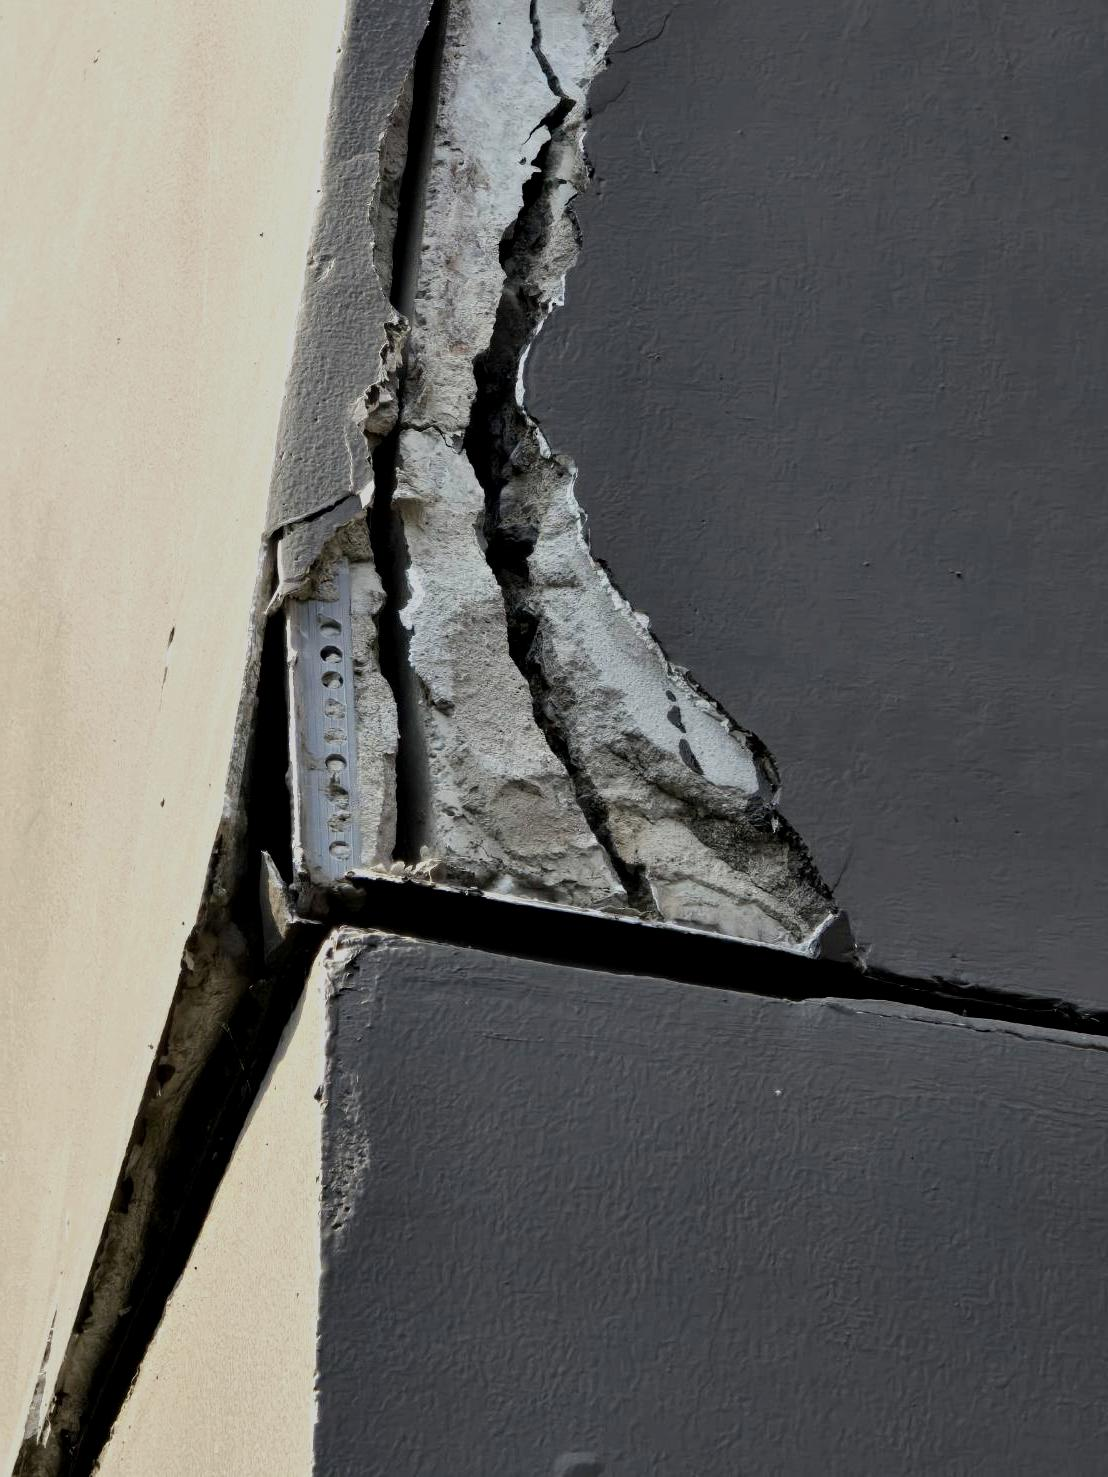High: (3, 2, 882, 1474)
